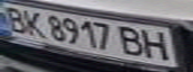1: (78, 19, 96, 48)
7: (93, 20, 118, 52)
8: (42, 12, 66, 43)
9: (60, 16, 81, 46)
B: (115, 24, 148, 57), (0, 3, 30, 34)
H: (139, 27, 175, 62)
K: (18, 8, 48, 38)
